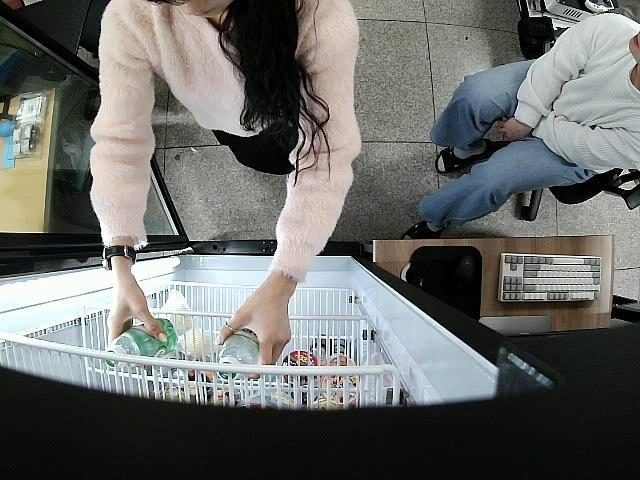18_trevi: (105, 317, 178, 367), (218, 330, 262, 380)
